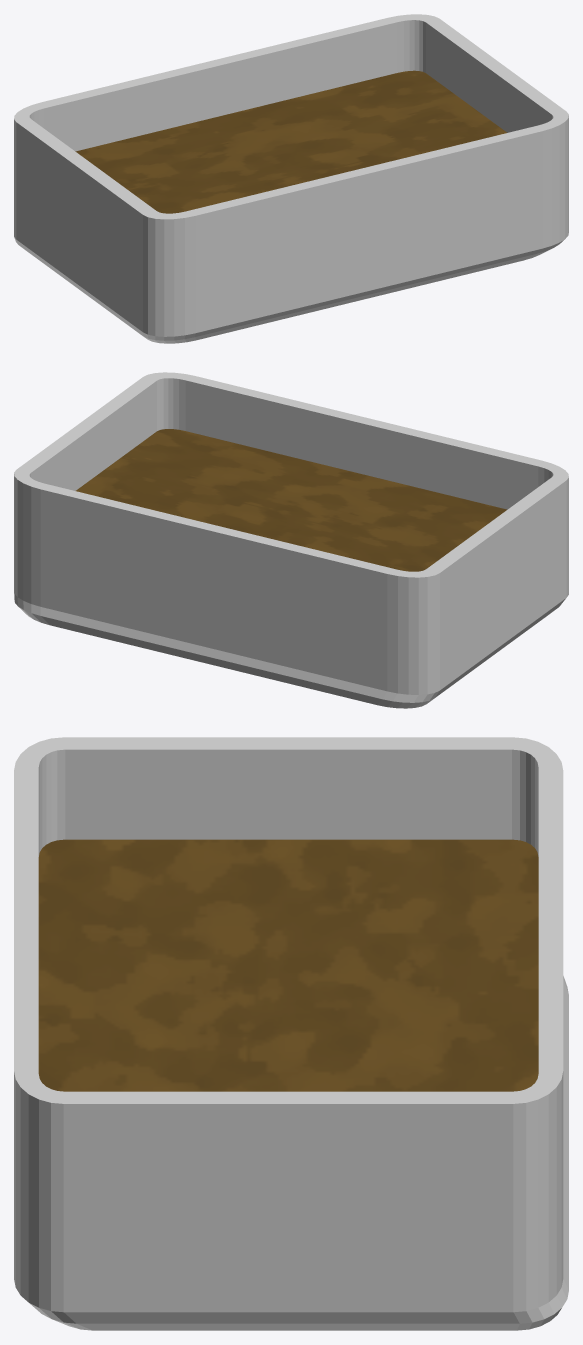
Rendered from lavar_talheres.glb.
3 renders of one model, top to bottom at view 1: azimuth 30°, elevation 25°; view 2: azimuth 150°, elevation 25°; view 3: azimuth 270°, elevation 25°, orthographic. The views are drawn at different scales.
Visible parts, largest first — view 1: limpaTalher; view 2: limpaTalher; view 3: limpaTalher.
Boxes of the visible parts, left/top/right/bottom form: limpaTalher: left=14, top=14, right=568, bottom=343; limpaTalher: left=14, top=372, right=568, bottom=708; limpaTalher: left=14, top=737, right=568, bottom=1330.
Size of the model in its own units: 1.57 by 0.4716 by 1.
Materials: 2 (1 with a texture image).
